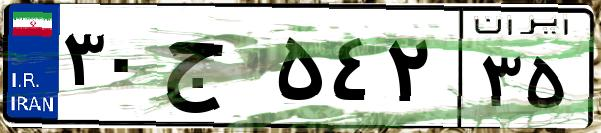0: (110, 28, 158, 98)
2: (385, 28, 445, 110)
3: (57, 26, 110, 100), (475, 38, 525, 113)
4: (330, 28, 385, 110)
5: (270, 28, 330, 110), (525, 38, 570, 115)
ج: (158, 20, 270, 120)
